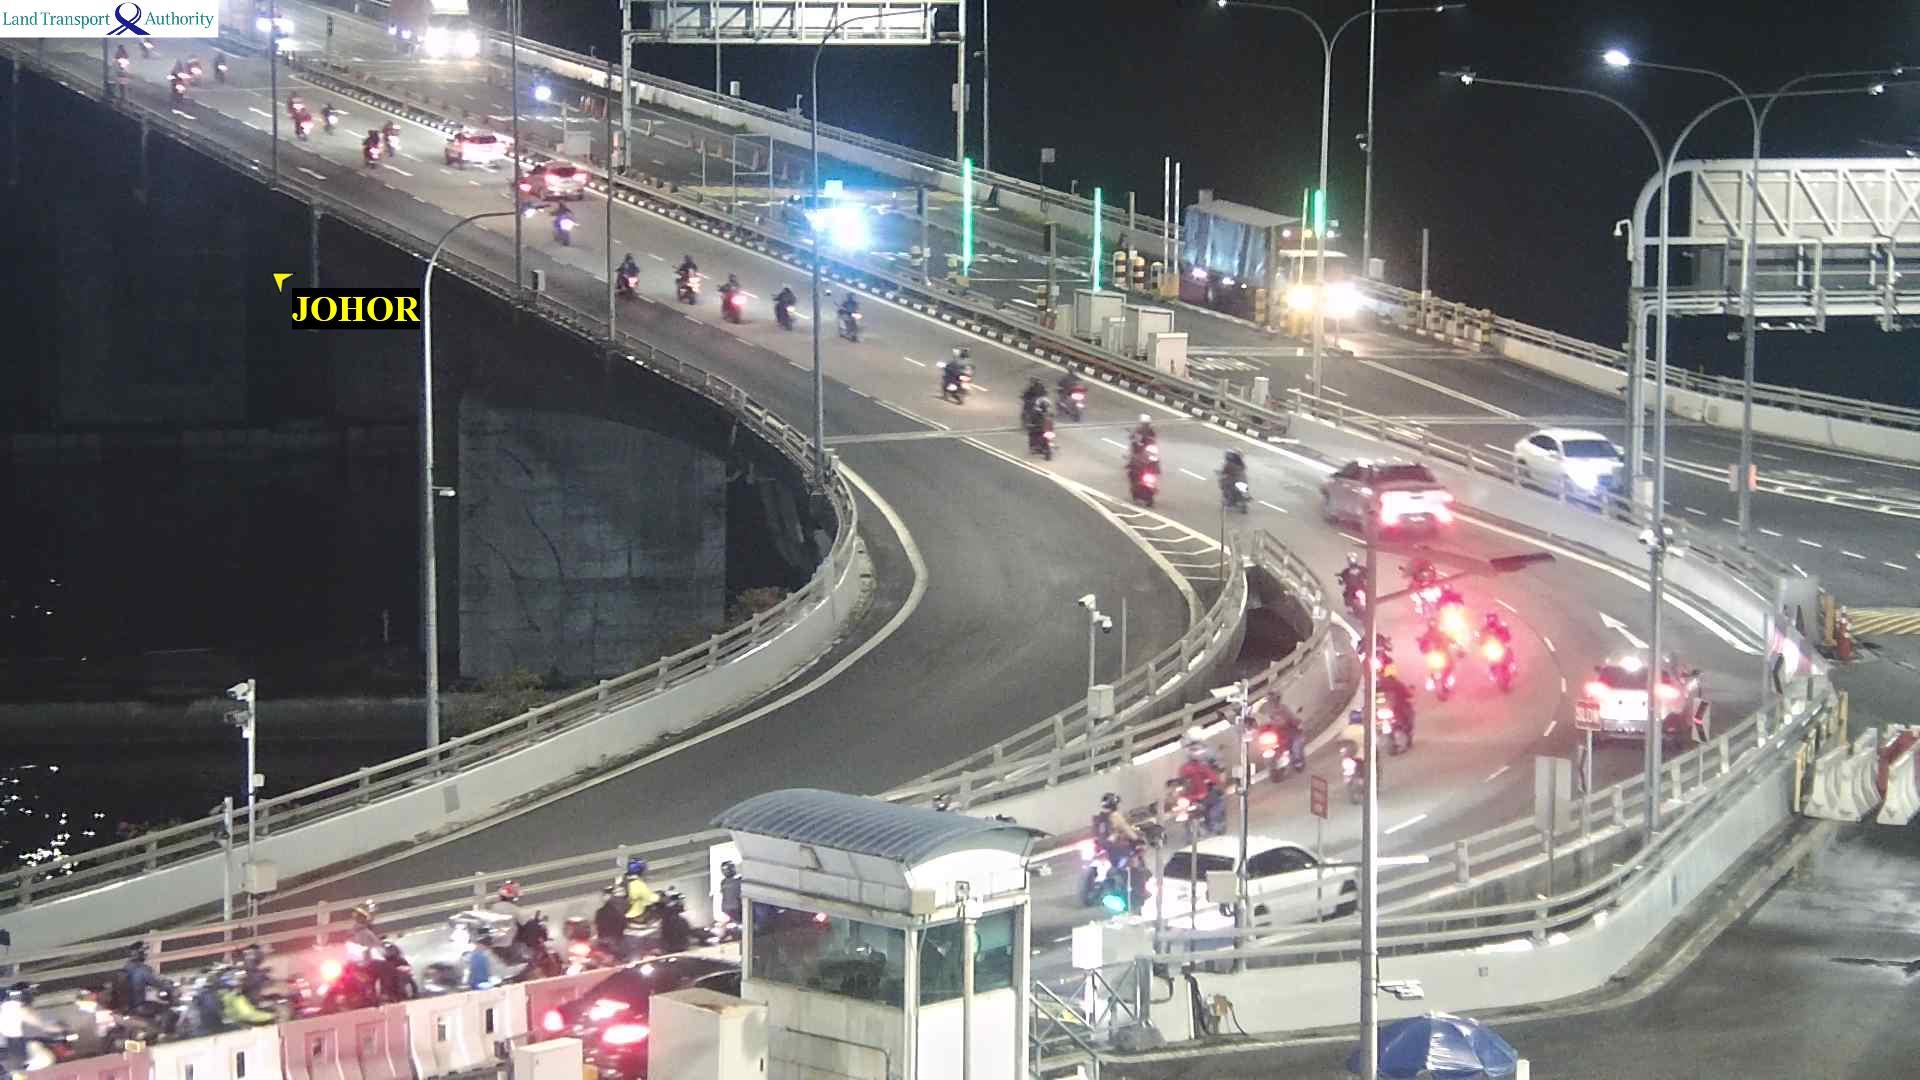vehicle-secondlink-johor: (429, 880, 560, 993), (1572, 649, 1701, 749), (0, 948, 177, 1015), (1336, 462, 1457, 543), (181, 948, 289, 1035), (595, 868, 684, 945), (80, 949, 183, 1013), (332, 903, 402, 988), (326, 940, 398, 1010), (595, 1005, 649, 1080), (1255, 691, 1302, 774), (1178, 746, 1220, 827), (322, 948, 369, 1013), (1127, 422, 1163, 501), (1485, 603, 1515, 688), (1089, 793, 1127, 858), (1025, 380, 1056, 454), (448, 131, 510, 164), (1410, 551, 1445, 608), (527, 160, 582, 196), (940, 351, 978, 400), (1340, 554, 1370, 612), (1056, 378, 1088, 422), (674, 255, 700, 298), (615, 257, 641, 299), (1029, 378, 1054, 419), (550, 207, 575, 245), (841, 289, 860, 338), (717, 278, 738, 320), (363, 125, 385, 158), (175, 59, 198, 90), (785, 282, 799, 326)
vehicle-secondlink-singapore: (1515, 430, 1635, 491), (361, 0, 476, 54)
